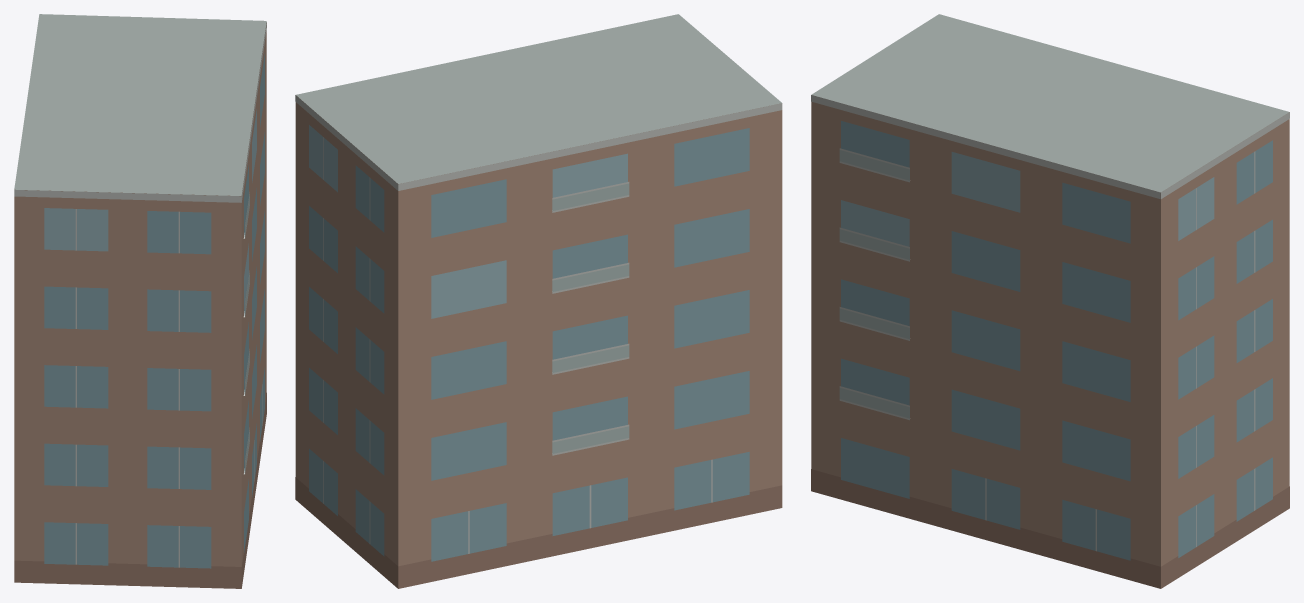
Rendered from survey-upis-32929467.glb.
3 views of the same model, side by side, from view 1: azimuth 30°, elevation 25°; view 2: azimuth 150°, elevation 25°; view 3: azimuth 270°, elevation 25° (orthographic). The views are drawn at different scales.
Parts seen in each view (by area): view 1: survey-upis-32929467.tmp; view 2: survey-upis-32929467.tmp; view 3: survey-upis-32929467.tmp.
Part boxes in pixels (<box>): survey-upis-32929467.tmp: <box>14,14,266,588</box>; survey-upis-32929467.tmp: <box>295,14,782,588</box>; survey-upis-32929467.tmp: <box>811,14,1289,588</box>.
Bounding box in the file's own units: 13.72 × 14.2 × 15.55.
